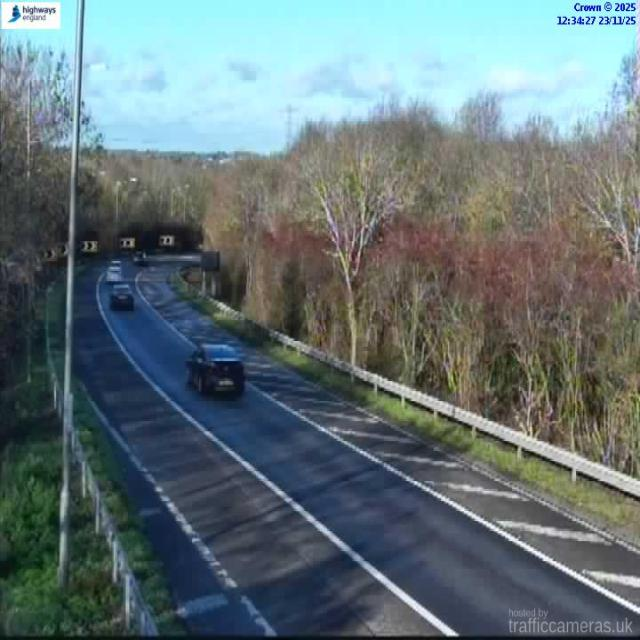foliage: (200, 94, 639, 474), (0, 33, 74, 386), (76, 101, 206, 251)
